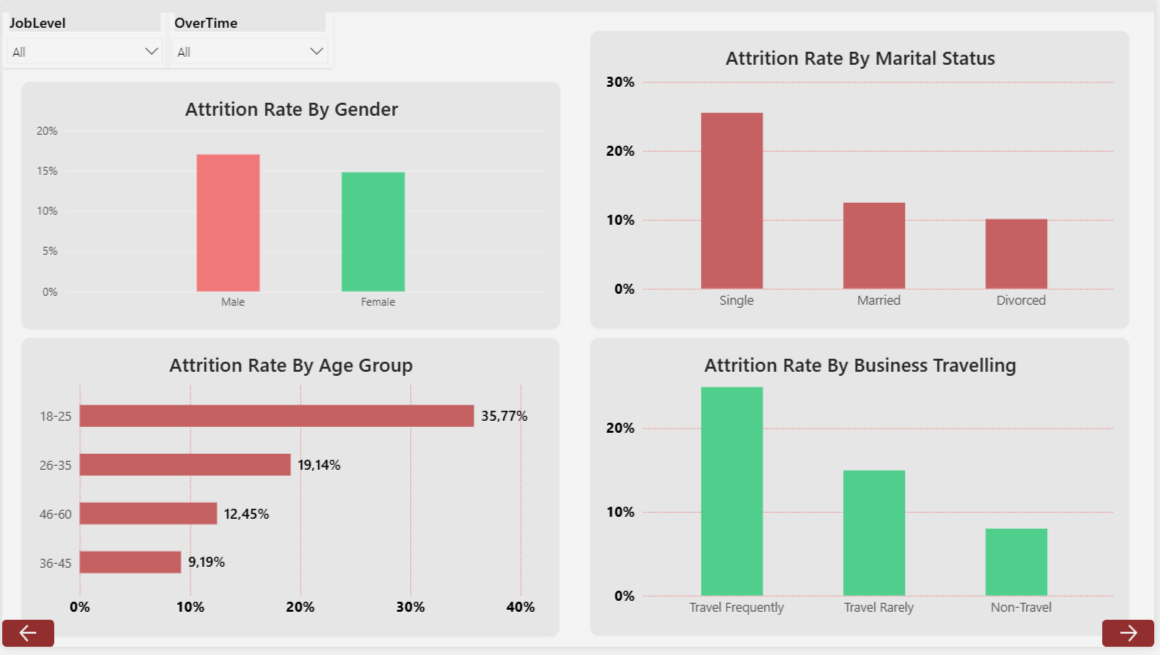

The dashboard page shown, as its layout file describes it:
{"tool":"powerbi","page":{"name":"Demographics","canvas":[1280,720],"ordinal":1},"visuals":[{"type":"columnChart","title":"Attrition Rate By Gender","fields":{"Category":["HR-Employee-Attrition.Gender"],"Y":["HR-Employee-Attrition.Attrition Rate"]},"box":[21.2,92.5,598.8,275],"z":0},{"type":"columnChart","title":"Attrition Rate By Marital Status","fields":{"Category":["HR-Employee-Attrition.MaritalStatus"],"Y":["HR-Employee-Attrition.Attrition Rate"]},"box":[652.9,35.7,598.6,331.4],"z":1000},{"type":"columnChart","title":"Attrition Rate By Business Travelling","fields":{"Category":["HR-Employee-Attrition.BusinessTravel"],"Y":["HR-Employee-Attrition.Attrition Rate"]},"box":[652.9,377.1,598.6,331.4],"z":2000},{"type":"clusteredBarChart","title":"Attrition Rate By Age Group","fields":{"Category":["HR-Employee-Attrition.AgeGroup"],"Y":["HR-Employee-Attrition.Attrition Rate"]},"box":[21,377,598,332],"z":3000},{"type":"shape","box":[0,0,1280,15],"z":4000},{"type":"actionButton","box":[0,690,57.8,30],"z":5000},{"type":"slicer","fields":{"Values":["HR-Employee-Attrition.JobLevel"]},"box":[0,15,183.8,61.2],"z":6000},{"type":"slicer","fields":{"Values":["HR-Employee-Attrition.OverTime"]},"box":[183.8,15,183.8,61.2],"z":7000},{"type":"actionButton","box":[1222.2,690,57.8,30],"z":8000}]}

Visuals, with their boxes in screenshot pixels (x1, y1, x2, y2), scaled from the page's 1280x720 canvas onto the 1160x655 screenshot:
"Attrition Rate By Gender" columnChart: 19 84 562 334
"Attrition Rate By Marital Status" columnChart: 592 32 1134 334
"Attrition Rate By Business Travelling" columnChart: 592 343 1134 645
"Attrition Rate By Age Group" clusteredBarChart: 19 343 561 645
shape: 0 0 1159 14
actionButton: 0 628 52 654
slicer - HR-Employee-Attrition.JobLevel: 0 14 167 69
slicer - HR-Employee-Attrition.OverTime: 167 14 333 69
actionButton: 1108 628 1159 654
